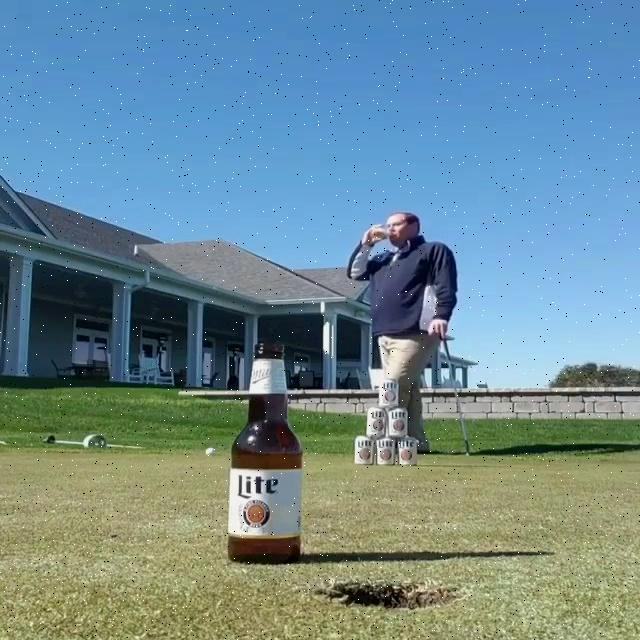ClubHandle: (442, 335, 470, 455)
ClubHead: (442, 334, 456, 342)
GolfBall: (205, 448, 217, 457)
